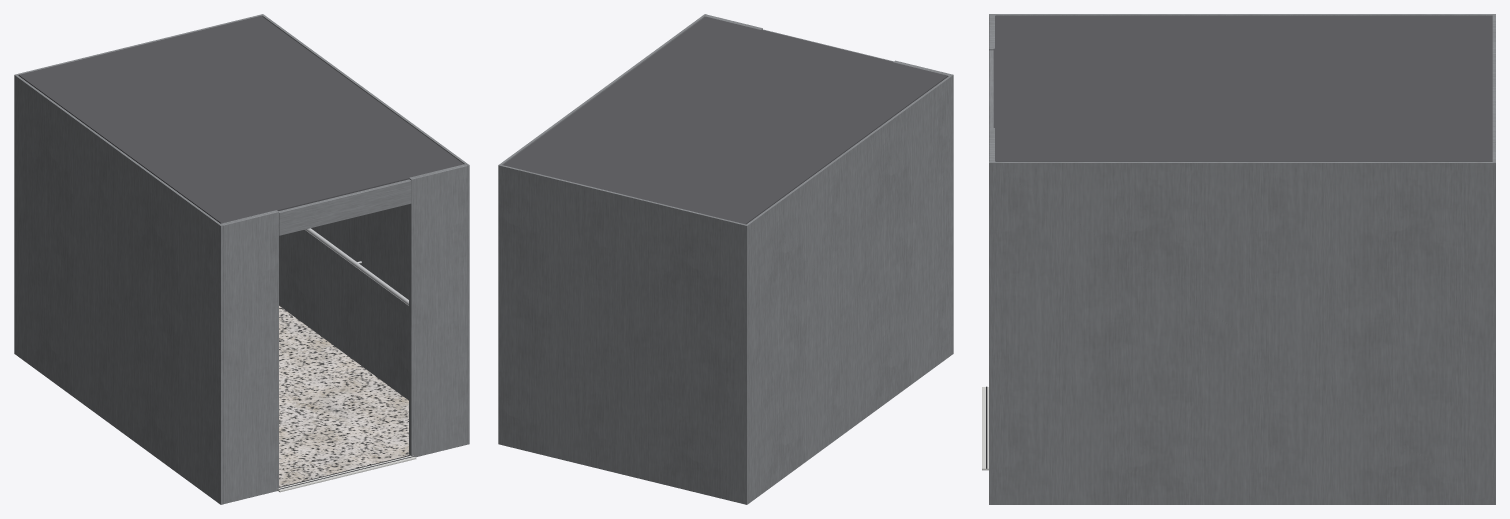
Rendered from hotel-elevator-car.glb.
The picture shows the model from 3 angles, left to right: view 1: azimuth 30°, elevation 25°; view 2: azimuth 150°, elevation 25°; view 3: azimuth 270°, elevation 25°; orthographic projection. The views are drawn at different scales.
Parts seen in each view (by area): view 1: car_brushed, charcoal, car_terrazzo, sill_alu, steel; view 2: car_brushed, charcoal; view 3: car_brushed, charcoal.
Boxes of the visible parts, x1,y1,x2,y2 form: car_brushed: [14, 14, 469, 504]; charcoal: [18, 16, 463, 223]; car_terrazzo: [279, 306, 409, 486]; sill_alu: [277, 455, 416, 492]; steel: [305, 228, 408, 305]; car_brushed: [498, 14, 953, 504]; charcoal: [503, 16, 947, 224]; car_brushed: [989, 14, 1495, 504]; charcoal: [993, 16, 1492, 161].
Bounding box in the file's own units: 2.26 × 2.42 × 3.3.
21 materials, 9 textured.
